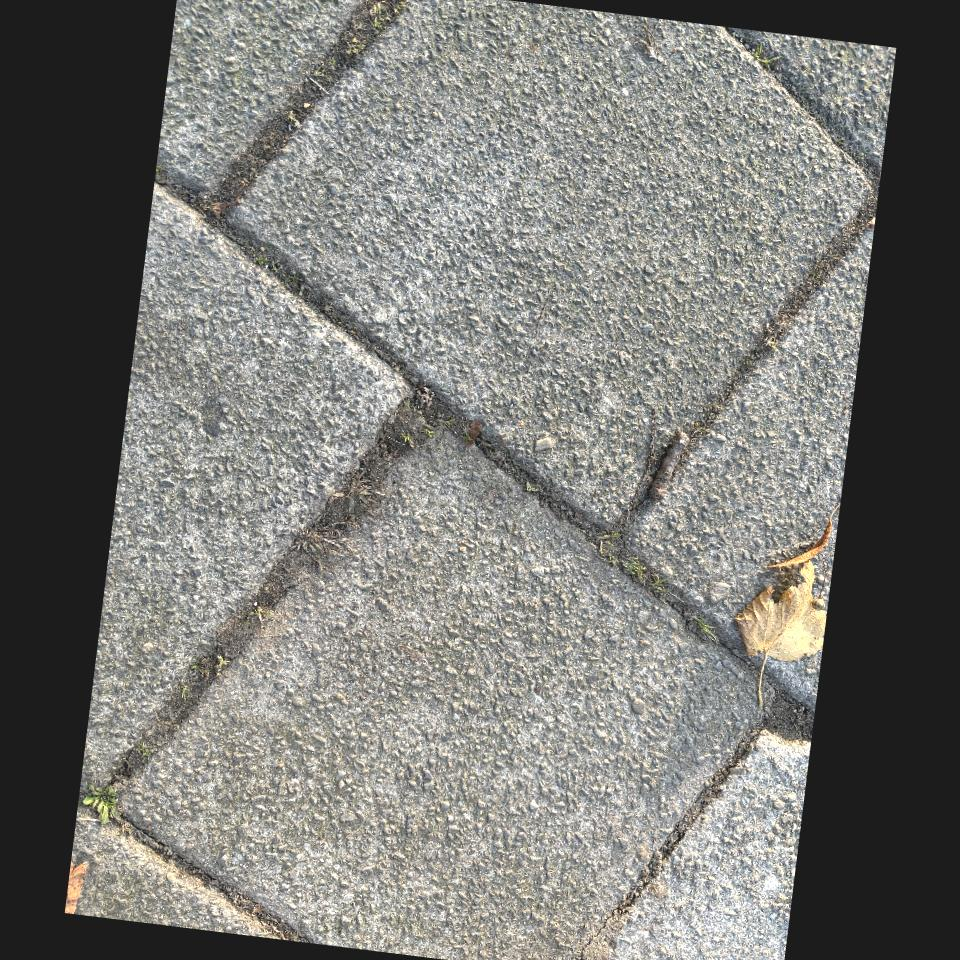weed: (82, 784, 120, 824), (134, 741, 149, 760), (400, 431, 413, 447), (525, 481, 540, 492), (254, 255, 267, 267), (189, 661, 201, 673), (421, 426, 433, 437), (289, 273, 301, 284)
